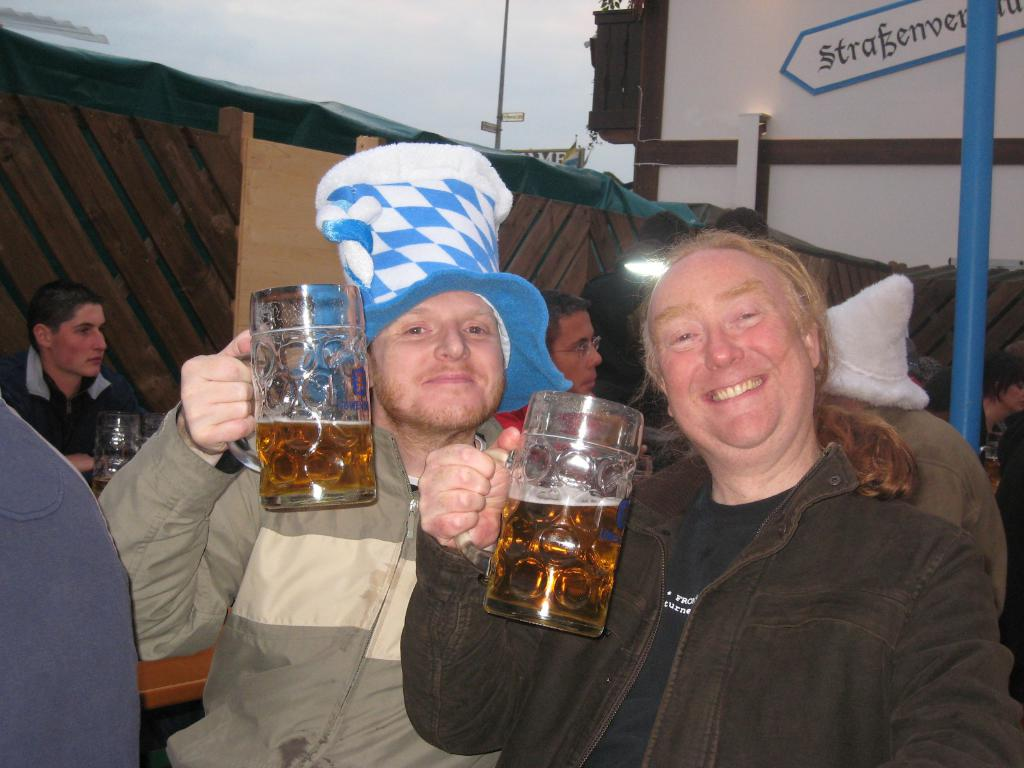Beer: (465, 373, 650, 661), (229, 283, 378, 517)
